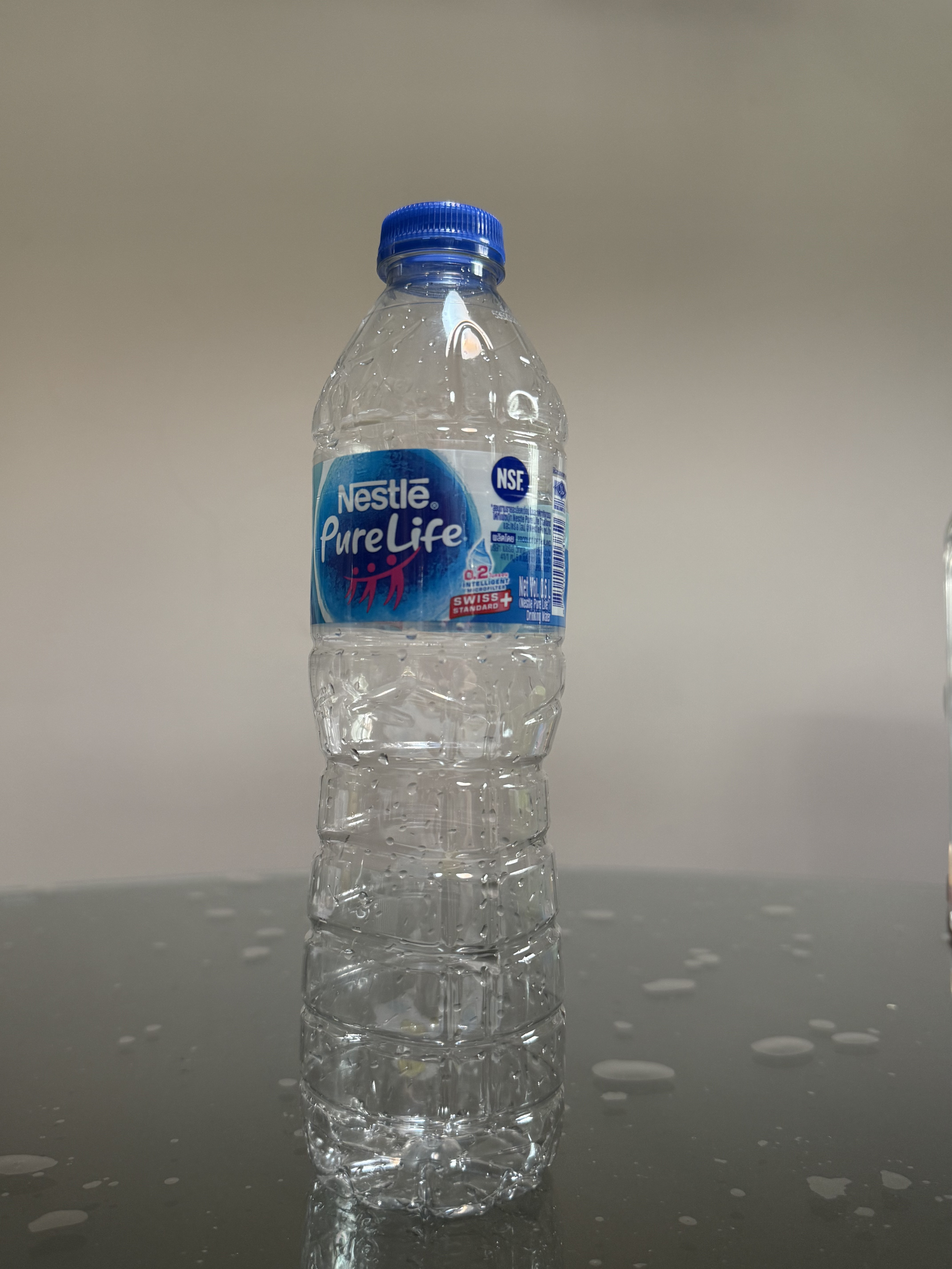closed_cap: (374, 197, 507, 283)
